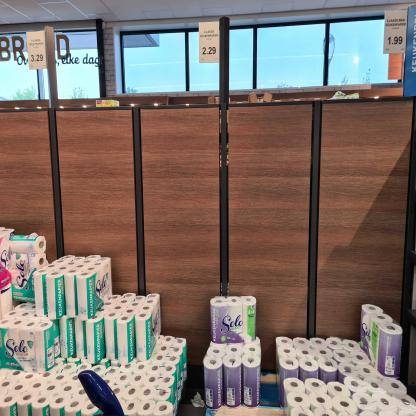prtg: (384, 11, 409, 55), (27, 32, 48, 72), (200, 22, 220, 64)
